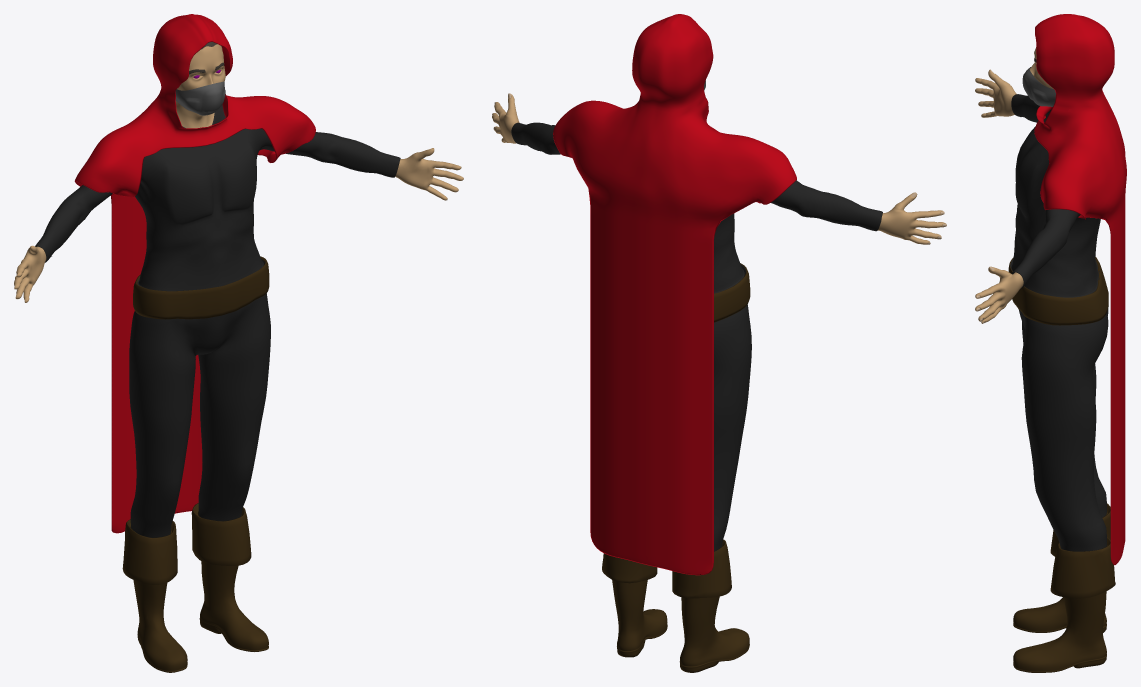
The model's file is rogue_red.fbx.
3 renders of one model, left to right at view 1: azimuth 30°, elevation 25°; view 2: azimuth 150°, elevation 25°; view 3: azimuth 270°, elevation 25°, orthographic.
Parts seen in each view (by area): view 1: rogue:Rogue_Mesh, rogue:Hood, rogue:Mask; view 2: rogue:Hood, rogue:Rogue_Mesh; view 3: rogue:Rogue_Mesh, rogue:Hood, rogue:Mask.
Boxes of the visible parts, x1,y1,x2,y2 form: rogue:Rogue_Mesh: (14, 42, 463, 672); rogue:Hood: (74, 14, 315, 533); rogue:Mask: (175, 81, 225, 115); rogue:Hood: (553, 14, 796, 575); rogue:Rogue_Mesh: (492, 93, 946, 672); rogue:Rogue_Mesh: (975, 47, 1115, 672); rogue:Hood: (1034, 14, 1126, 565); rogue:Mask: (1022, 67, 1055, 106).
Size of the model in its own units: 8.9 by 11.85 by 2.59.
